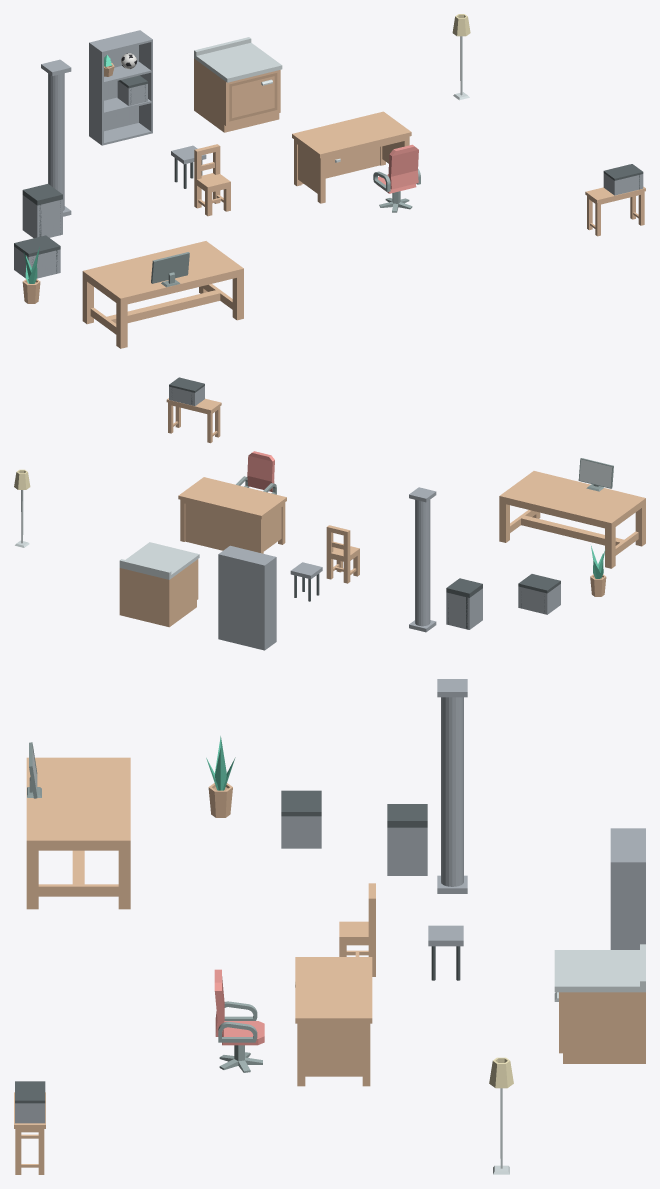
The picture shows the model from 3 angles, top to bottom: view 1: azimuth 30°, elevation 25°; view 2: azimuth 150°, elevation 25°; view 3: azimuth 270°, elevation 25°; orthographic projection. The views are drawn at different scales.
Parts seen in each view (by area): view 1: table_green__table(Clone), desk_blue__desk(Clone), cabinet_blue__kitchenCabinet(Clone), column_cyan__column_cyan shaft, cabinet_blue__door, chair_cyan__chair(Clone), deskchair_black__chair, shelf_orange__shelf_orange side_l, bin_gray__bin_gray shell, sidetable_brown__sideTable(Clone), shelf_orange__shelf_orange back, monitor_gray__computerScreen(Clone) (+10 smaller); view 2: table_green__table(Clone), desk_blue__desk(Clone), cabinet_blue__kitchenCabinet(Clone), shelf_orange__shelf_orange back, column_cyan__column_cyan shaft, chair_cyan__chair(Clone), shelf_orange__shelf_orange side_l, bin_gray__bin_gray shell, deskchair_black__chair, sidetable_brown__sideTable(Clone), crate_red__crate_red shell, monitor_gray__computerScreen(Clone) (+5 smaller); view 3: table_green__table(Clone), cabinet_blue__kitchenCabinet(Clone), desk_blue__desk(Clone), column_cyan__column_cyan shaft, shelf_orange__shelf_orange side_r, deskchair_black__chair, bin_gray__bin_gray shell, chair_cyan__chair(Clone), crate_red__crate_red shell, shelf_orange__shelf_orange board3, crate_red__crate_red lid, sidetable_brown__sideTable(Clone) (+4 smaller).
Boxes of the visible parts, x1=… form: table_green__table(Clone): x1=82, y1=241, x2=243, y2=348; desk_blue__desk(Clone): x1=292, y1=111, x2=411, y2=203; cabinet_blue__kitchenCabinet(Clone): x1=194, y1=37, x2=282, y2=132; column_cyan__column_cyan shaft: x1=48, y1=73, x2=64, y2=210; cabinet_blue__door: x1=229, y1=73, x2=277, y2=121; chair_cyan__chair(Clone): x1=194, y1=144, x2=230, y2=216; deskchair_black__chair: x1=373, y1=144, x2=420, y2=193; shelf_orange__shelf_orange side_l: x1=89, y1=42, x2=103, y2=145; bin_gray__bin_gray shell: x1=22, y1=195, x2=62, y2=237; sidetable_brown__sideTable(Clone): x1=585, y1=186, x2=645, y2=236; shelf_orange__shelf_orange back: x1=91, y1=30, x2=138, y2=131; monitor_gray__computerScreen(Clone): x1=151, y1=252, x2=189, y2=287; table_green__table(Clone): x1=499, y1=471, x2=645, y2=568; desk_blue__desk(Clone): x1=178, y1=477, x2=286, y2=553; cabinet_blue__kitchenCabinet(Clone): x1=119, y1=542, x2=199, y2=627; shelf_orange__shelf_orange back: x1=220, y1=554, x2=262, y2=649; column_cyan__column_cyan shaft: x1=415, y1=499, x2=430, y2=626; chair_cyan__chair(Clone): x1=326, y1=525, x2=359, y2=583; shelf_orange__shelf_orange side_l: x1=263, y1=556, x2=276, y2=650; bin_gray__bin_gray shell: x1=446, y1=588, x2=482, y2=629; deskchair_black__chair: x1=236, y1=451, x2=276, y2=494; sidetable_brown__sideTable(Clone): x1=166, y1=398, x2=221, y2=443; crate_red__crate_red shell: x1=518, y1=584, x2=560, y2=614; monitor_gray__computerScreen(Clone): x1=578, y1=458, x2=613, y2=491; table_green__table(Clone): x1=26, y1=757, x2=130, y2=909; cabinet_blue__kitchenCabinet(Clone): x1=554, y1=944, x2=645, y2=1063; desk_blue__desk(Clone): x1=295, y1=957, x2=372, y2=1086; column_cyan__column_cyan shaft: x1=441, y1=697, x2=463, y2=886; shelf_orange__shelf_orange side_r: x1=610, y1=861, x2=645, y2=949; deskchair_black__chair: x1=214, y1=969, x2=264, y2=1045; bin_gray__bin_gray shell: x1=387, y1=827, x2=427, y2=875; chair_cyan__chair(Clone): x1=339, y1=883, x2=375, y2=976; crate_red__crate_red shell: x1=281, y1=816, x2=321, y2=848; shelf_orange__shelf_orange board3: x1=610, y1=829, x2=643, y2=861; crate_red__crate_red lid: x1=281, y1=790, x2=321, y2=816; sidetable_brown__sideTable(Clone): x1=14, y1=1092, x2=45, y2=1174.
Size of the model in its own units: 8.56 by 2.2 by 6.24.
